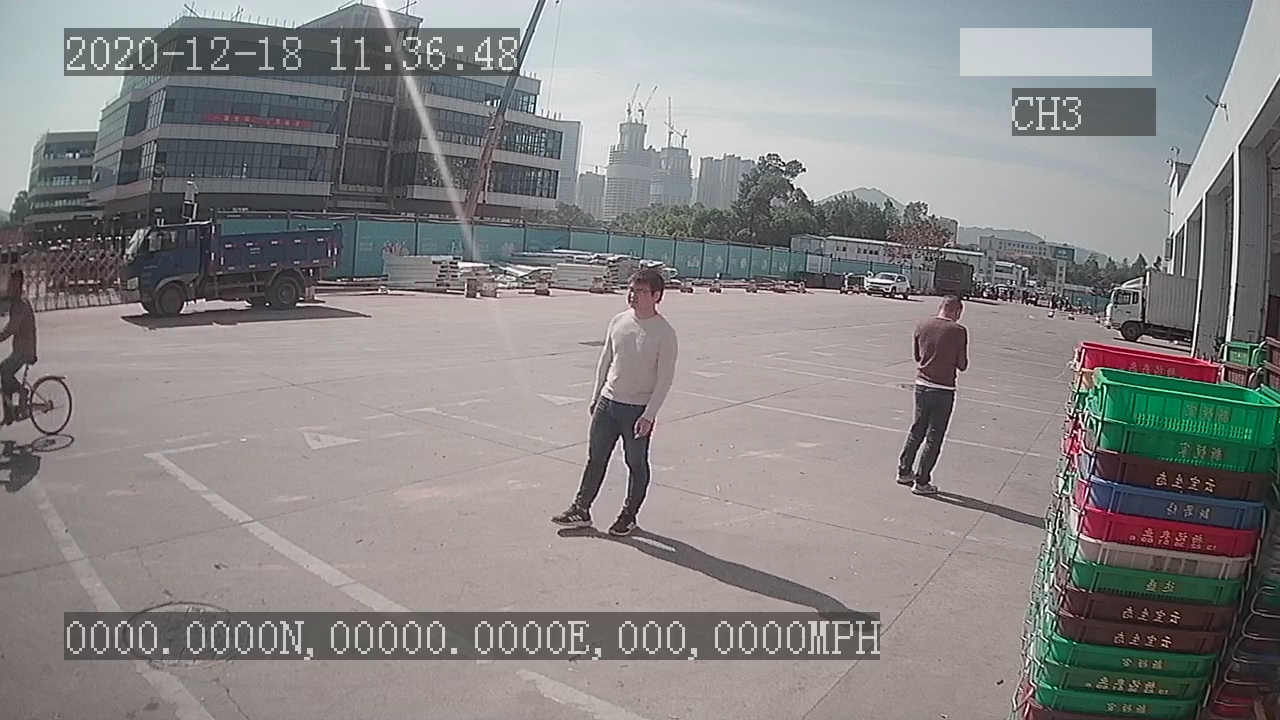person: (550, 260, 686, 538), (893, 287, 975, 501)
